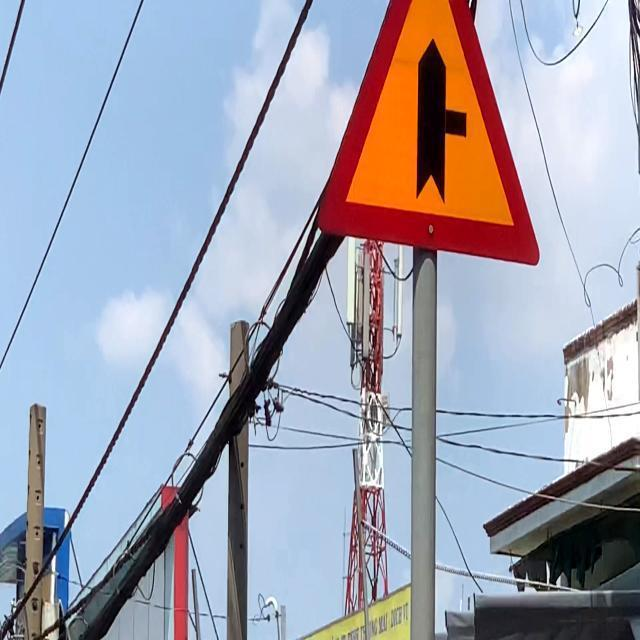207-giao-nhau-voi-duong-khong-uu-tien: (315, 0, 541, 268)
